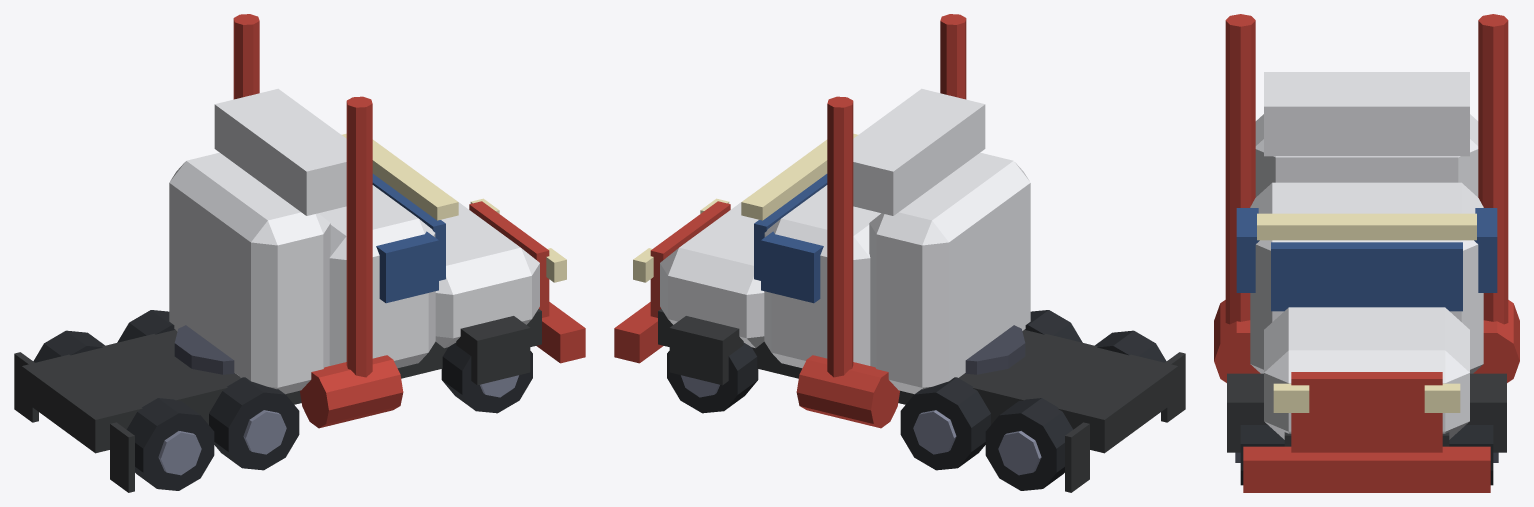
The model's file is semi.tractor-2.glb.
3 views of the same model, side by side, from view 1: azimuth 30°, elevation 25°; view 2: azimuth 150°, elevation 25°; view 3: azimuth 270°, elevation 25° (orthographic). The views are drawn at different scales.
Parts seen in each view (by area): view 1: model; view 2: model; view 3: model.
Boxes of the visible parts, left/top/right/bottom form: model: left=14, top=14, right=585, bottom=492; model: left=614, top=14, right=1185, bottom=492; model: left=1214, top=14, right=1519, bottom=492.
Size of the model in its own units: 0.444 by 0.31 by 0.2228.
1 material, 1 textured.
